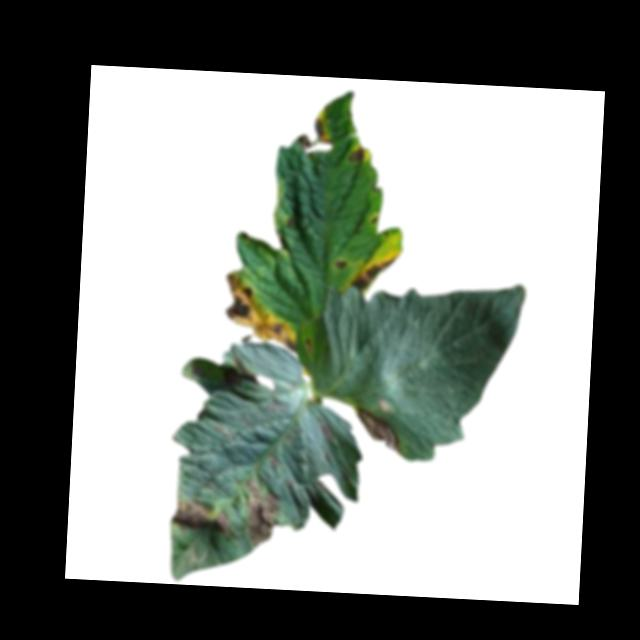Early_blight: (223, 271, 309, 353), (352, 402, 407, 458), (169, 492, 239, 535), (242, 473, 282, 547), (349, 252, 404, 293), (295, 114, 329, 150), (347, 143, 368, 164), (335, 254, 349, 269)
